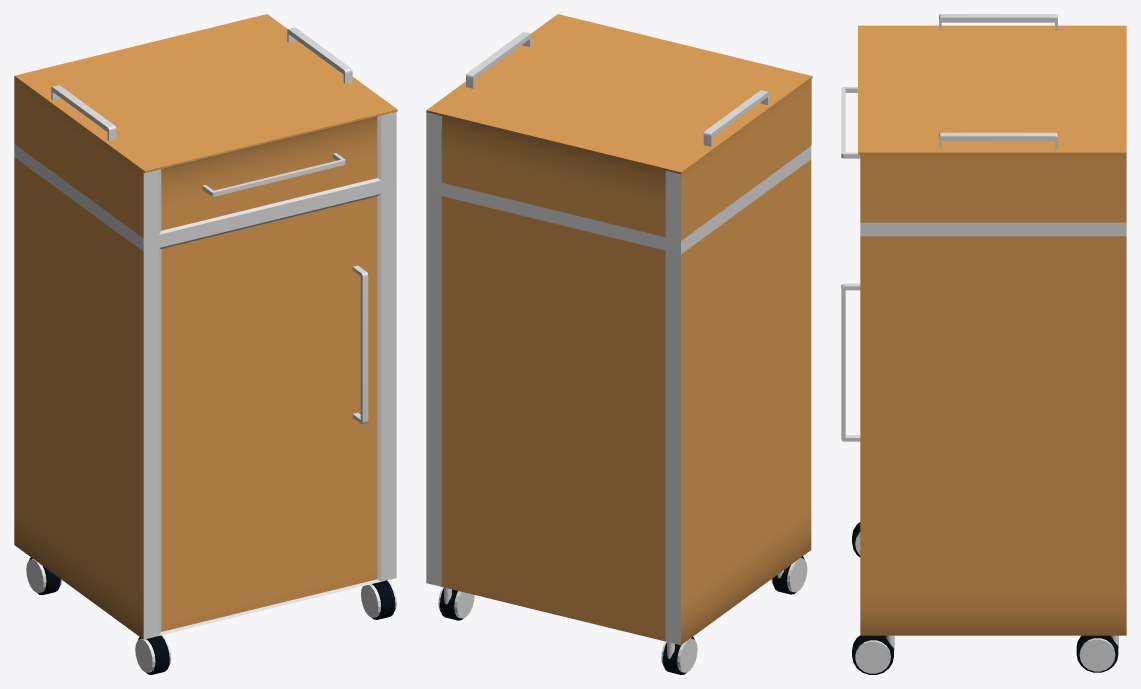
File: drawer_hospital_2.fbx
3 views of the same model, side by side, from view 1: azimuth 30°, elevation 25°; view 2: azimuth 150°, elevation 25°; view 3: azimuth 270°, elevation 25° (orthographic). The views are drawn at different scales.
Parts seen in each view (by area): view 1: drawer_hospital, drawer_wheel2; view 2: drawer_hospital, drawer_wheel2; view 3: drawer_hospital, drawer_wheel2.
Boxes of the visible parts, box(x1,y1,x2,y2) form: drawer_hospital: box(14, 14, 397, 639); drawer_wheel2: box(26, 557, 396, 674); drawer_hospital: box(426, 14, 812, 645); drawer_wheel2: box(438, 556, 807, 674); drawer_hospital: box(841, 14, 1126, 635); drawer_wheel2: box(852, 522, 1118, 674).
Bounding box in the file's own units: 48.45 × 95.74 × 46.
